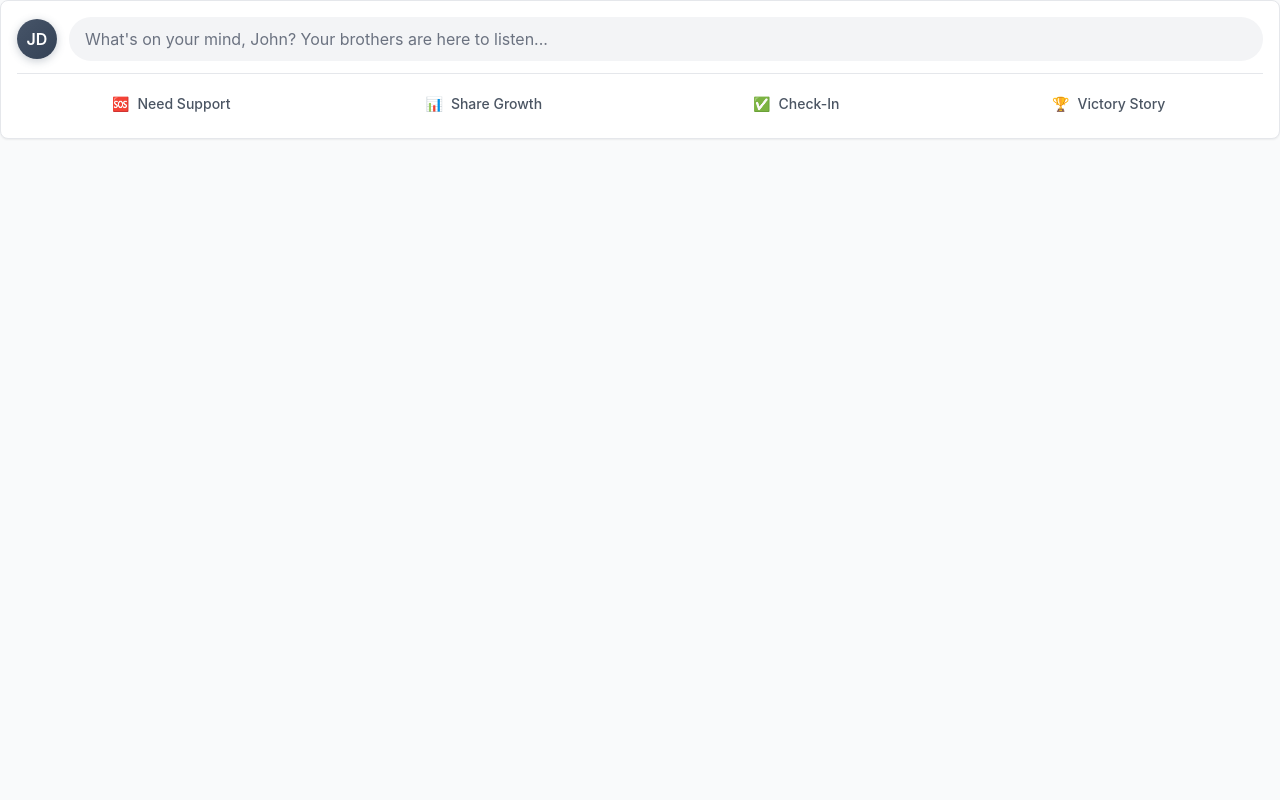
Test: CreatePost Component › Modal Interactions › should close modal when clicking close button
Click the button with aria-label "create a new post" at (168, 39), box [69,17,1263,61]
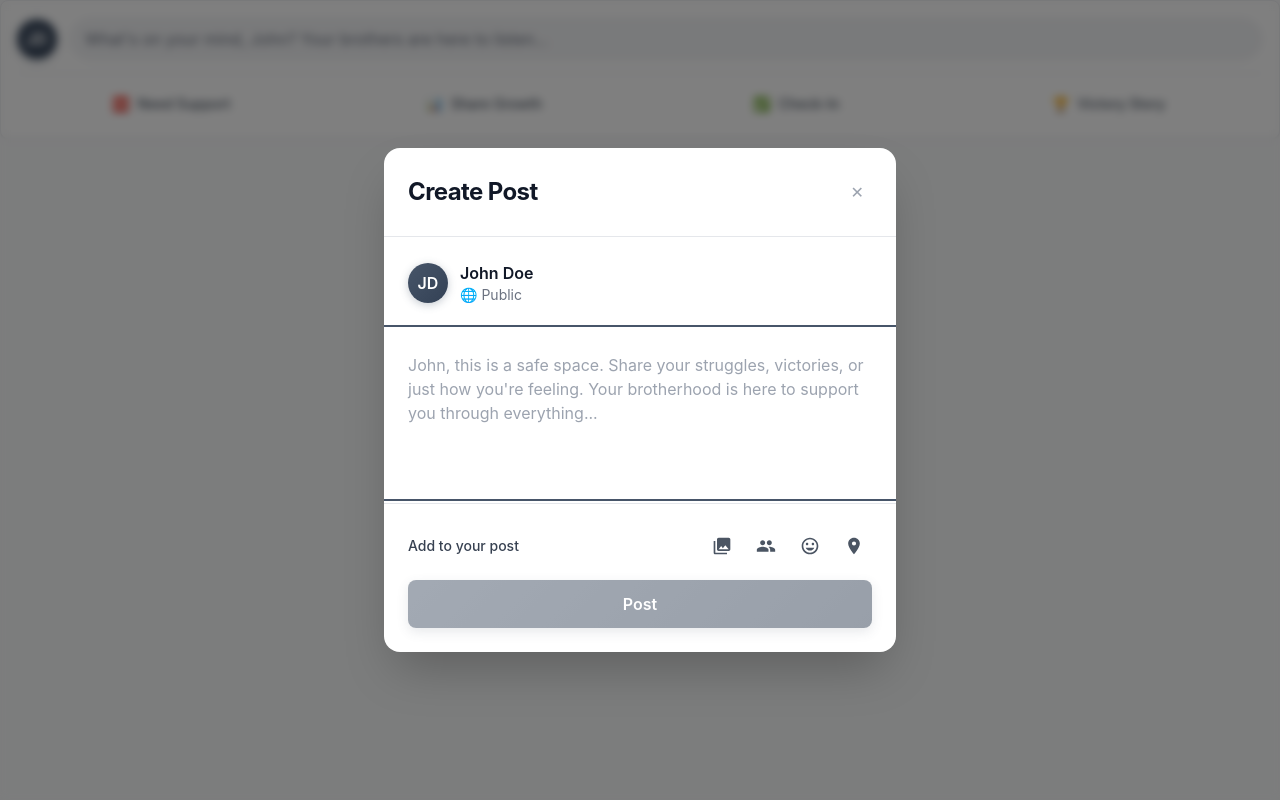
expect the dialog is shown: met
Click the button named "close modal" at (857, 192), box [843,172,872,212]
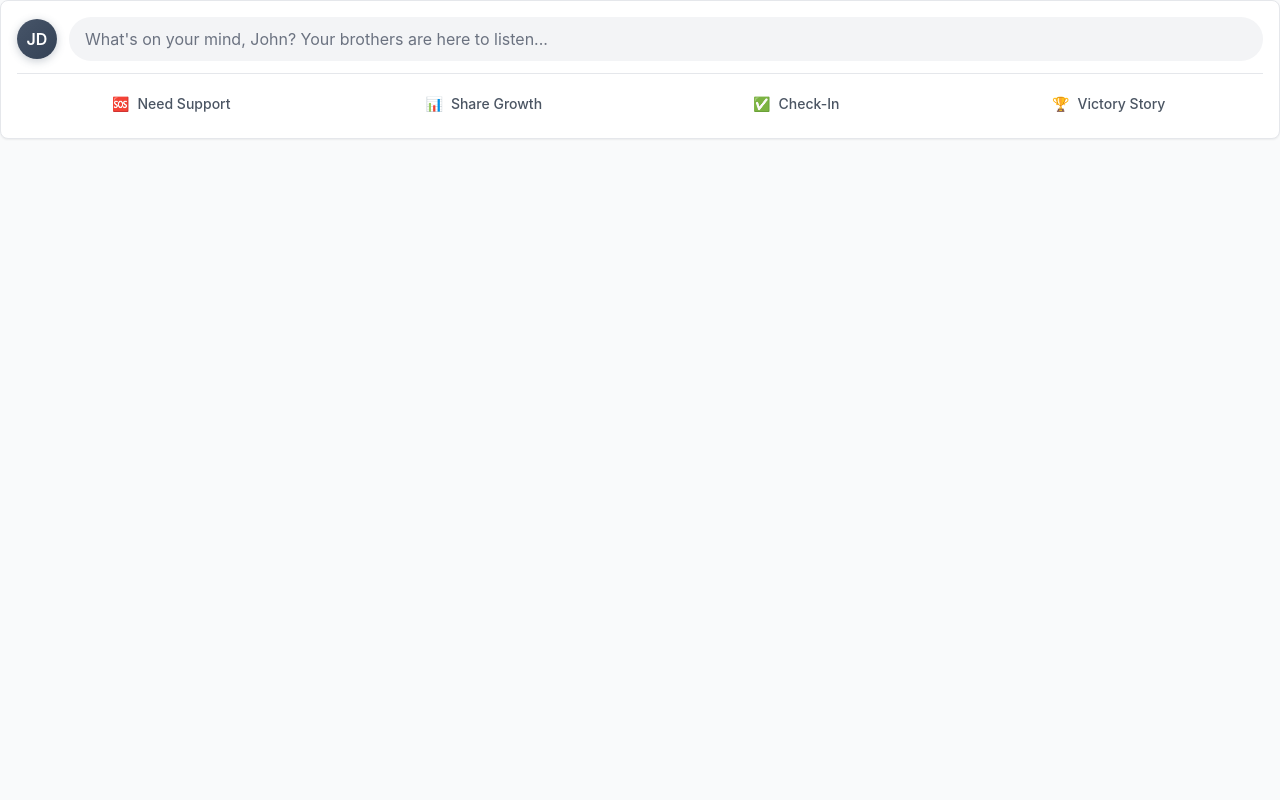
expect the dialog is gone: met
